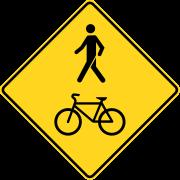Cycle Crossing: (20, 7, 153, 169)
